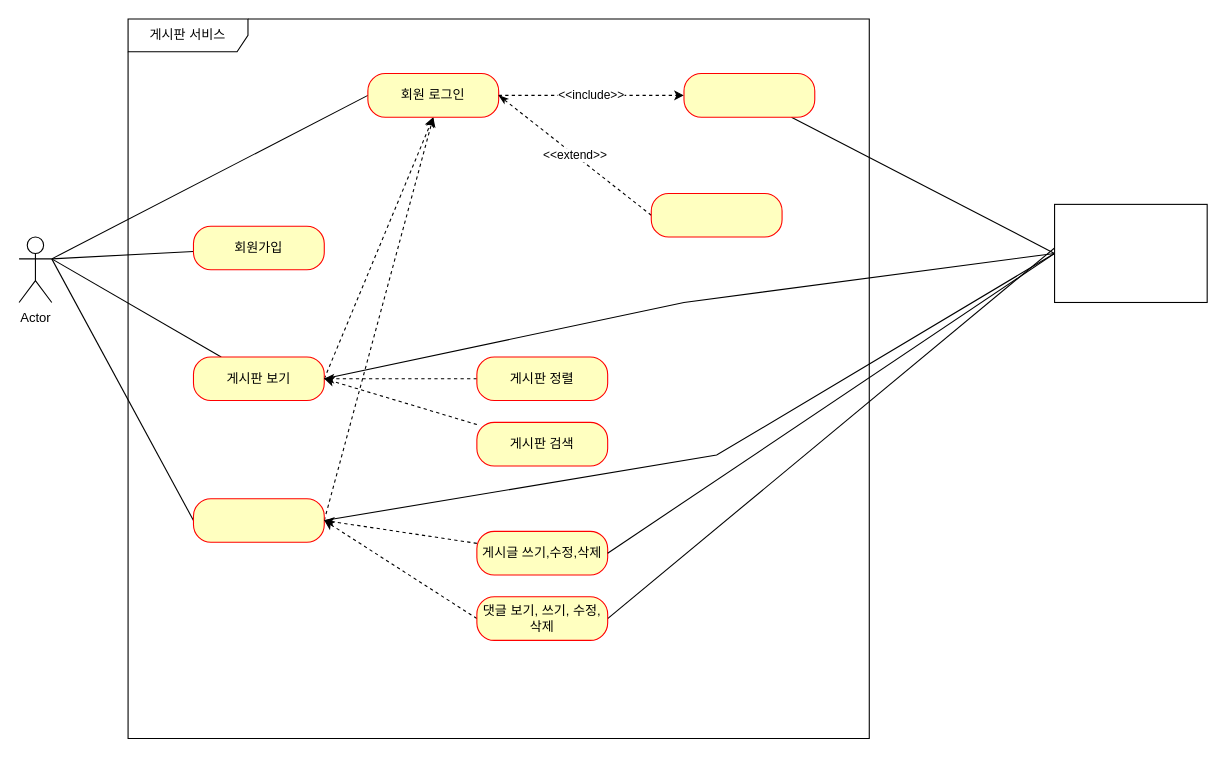
The diagram is 1226 pixels wide and 758 high, and some of its shapes have lost their labels. The shapes that lost their labels are listed below. From the top down, each one's centre as x and y in pixels, then its label:
At (x=749, y=94): "인증".
At (x=716, y=214): "로그인 실패".
At (x=1130, y=252): "DB".
At (x=258, y=520): "게시글 보기".
